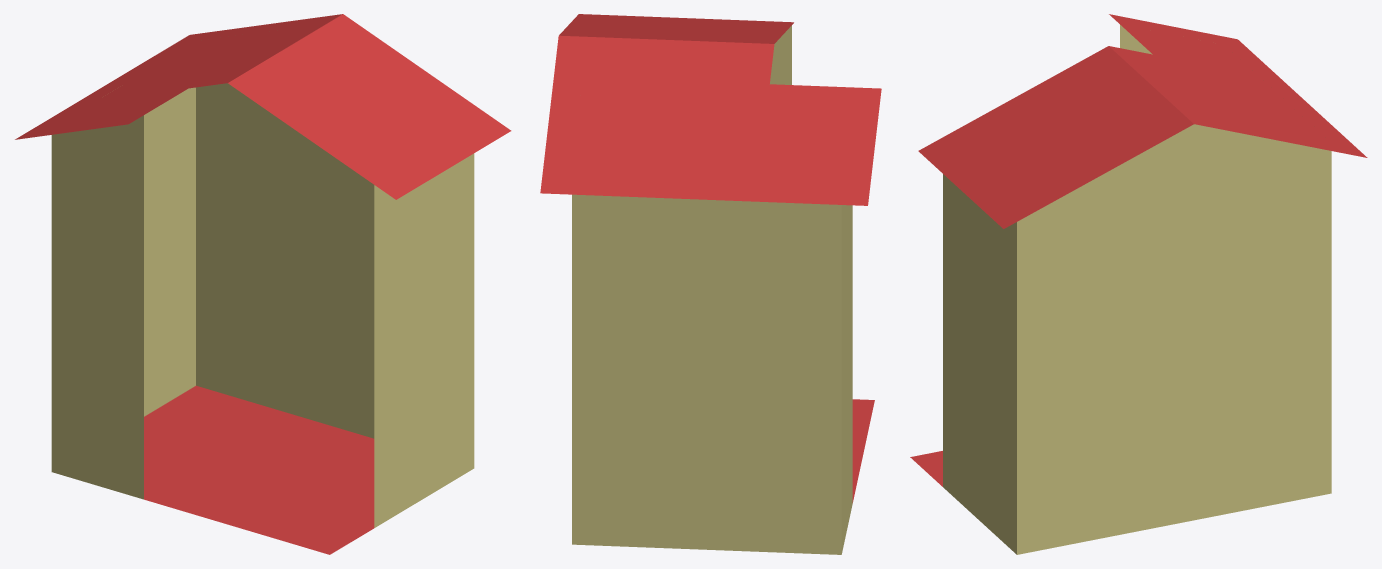
The picture shows the model from 3 angles, left to right: view 1: azimuth 30°, elevation 25°; view 2: azimuth 150°, elevation 25°; view 3: azimuth 270°, elevation 25°; orthographic projection. The views are drawn at different scales.
Bounding box in the file's own units: 8.21 × 8.37 × 8.25.
